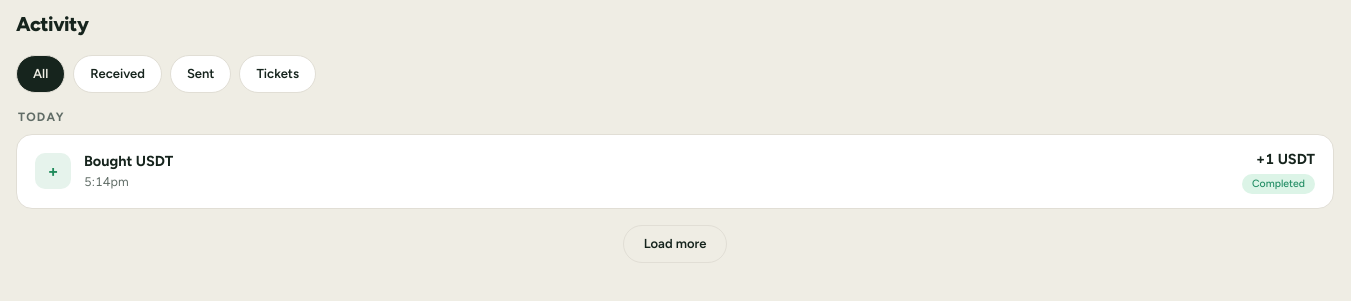
ActivityPage › paginates: 'Load more' appends the next page and then disappears
Click the button "Load more" at (675, 244), box [623,225,727,263]
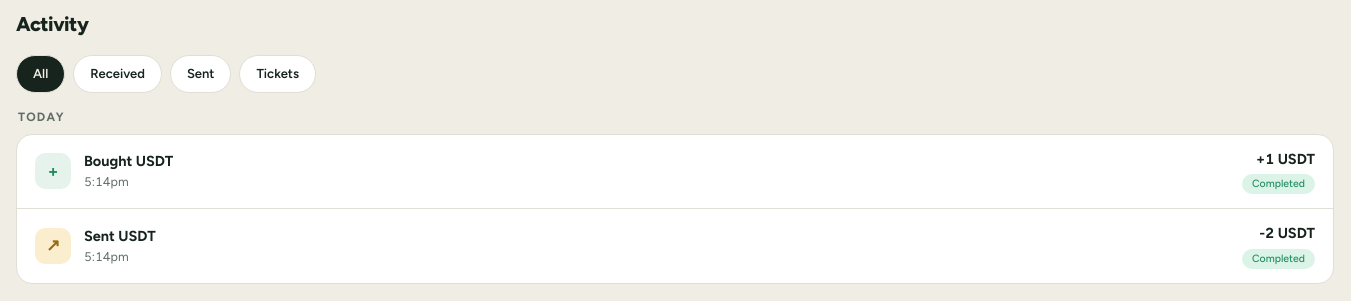
Check: the text "Sent USDT" is shown, box [84,227,156,245]
Check: the button "Load more" is gone
